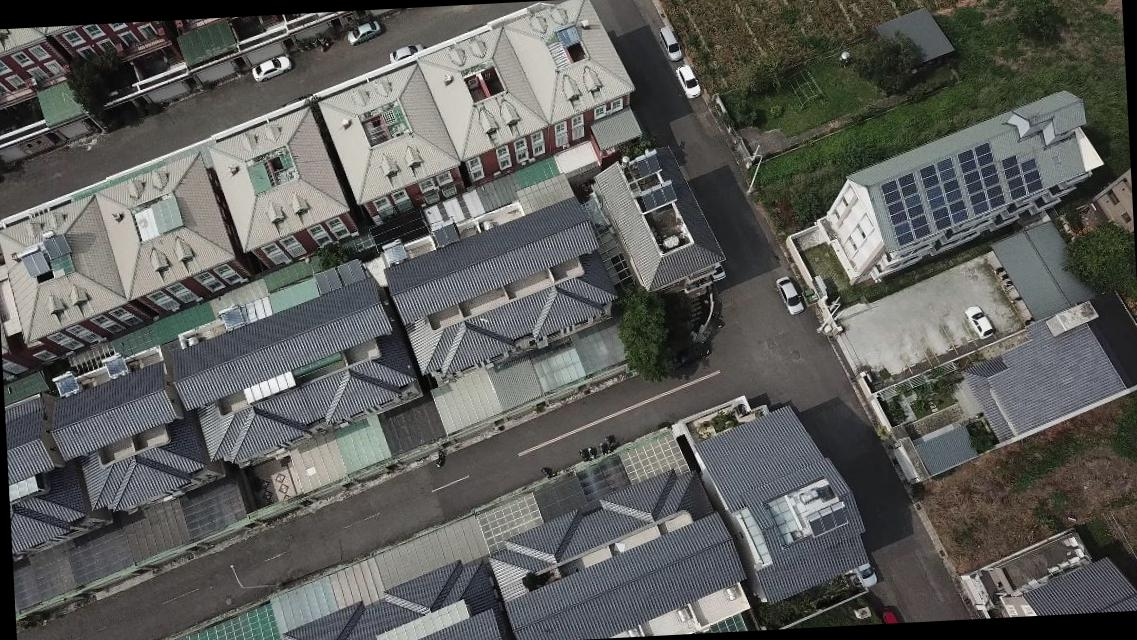vehicle: (249, 56, 292, 84), (774, 276, 804, 316), (962, 304, 992, 338), (346, 19, 382, 46), (674, 64, 700, 98), (656, 27, 680, 62), (388, 43, 424, 64), (856, 562, 877, 587), (876, 604, 896, 624)
